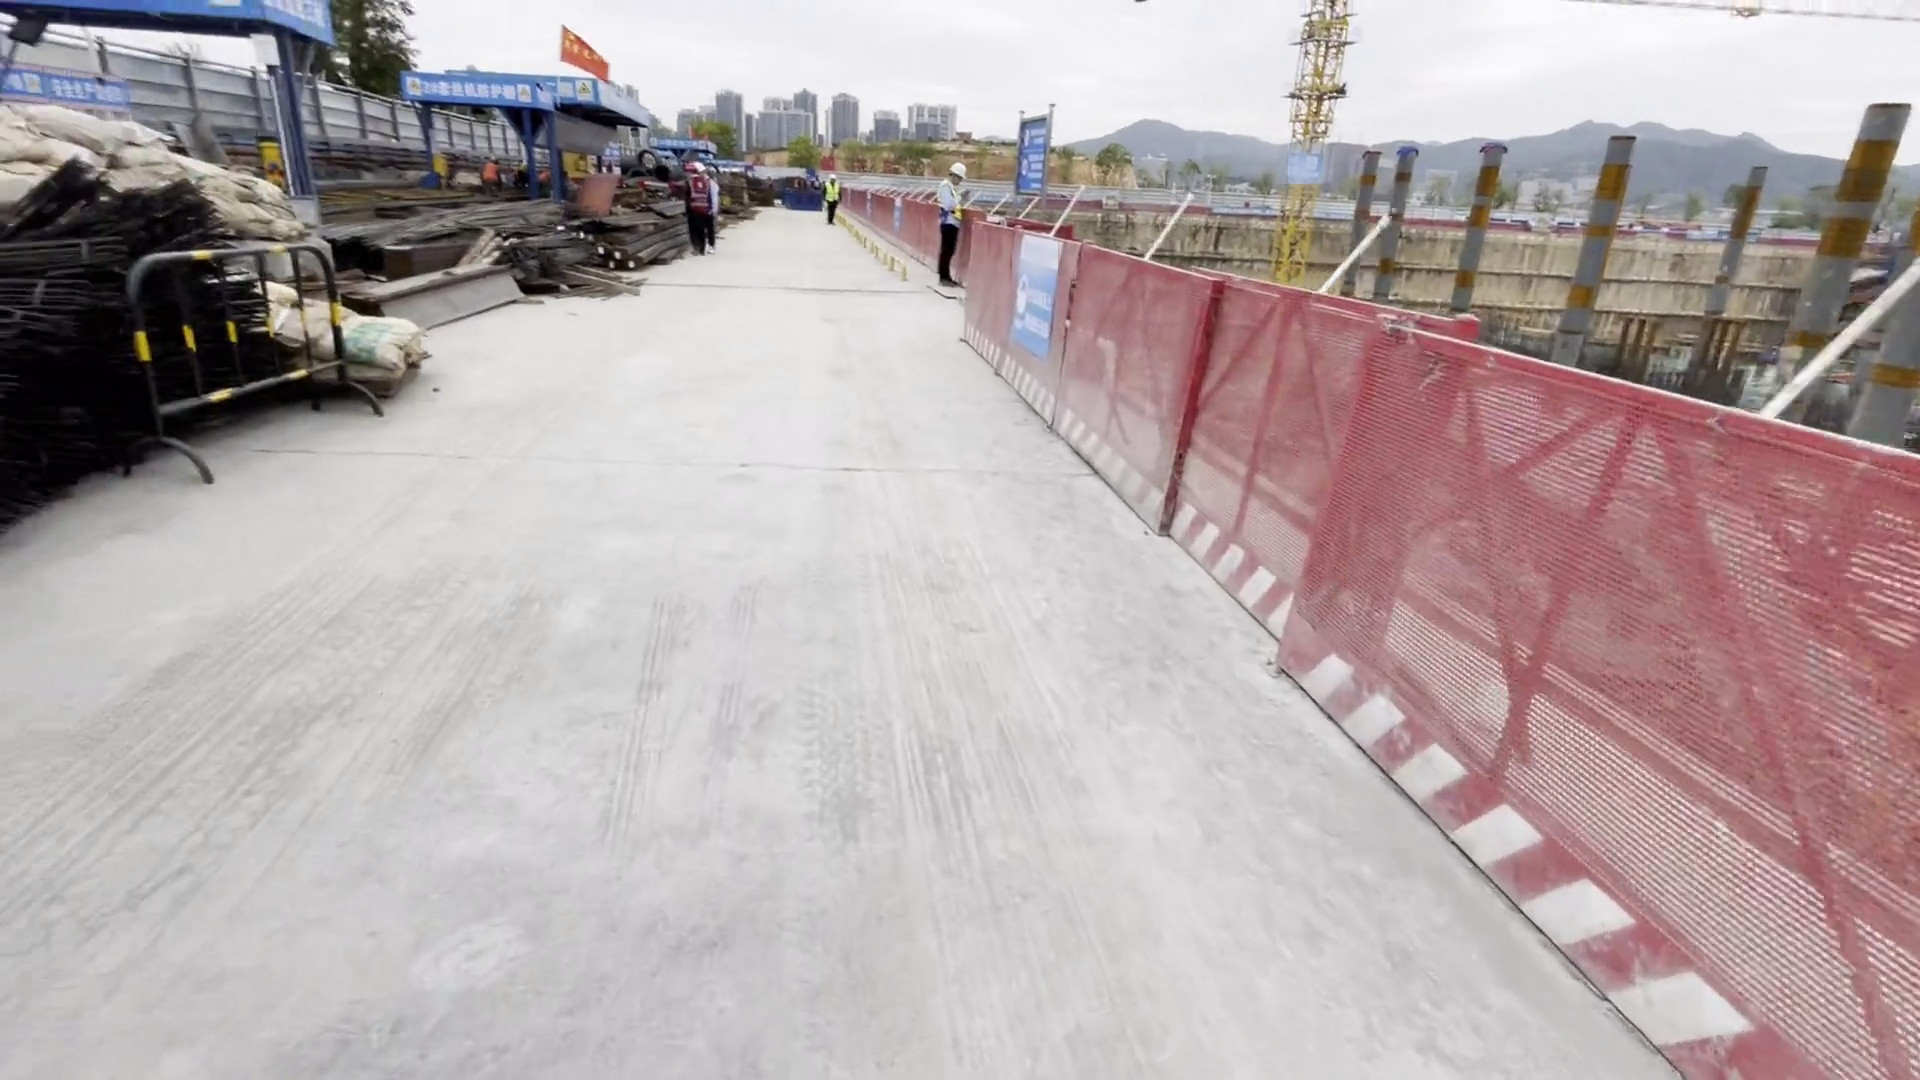ebox: (260, 140, 286, 194), (568, 150, 597, 173), (432, 150, 451, 183)
fence: (1438, 366, 1920, 1059), (1039, 246, 1464, 685)
helmet: (949, 159, 964, 178), (686, 162, 704, 173)
person: (935, 160, 968, 290), (697, 160, 722, 252), (681, 166, 705, 255), (822, 177, 842, 227)
vest: (935, 179, 959, 221), (688, 177, 709, 209), (822, 182, 840, 207)
